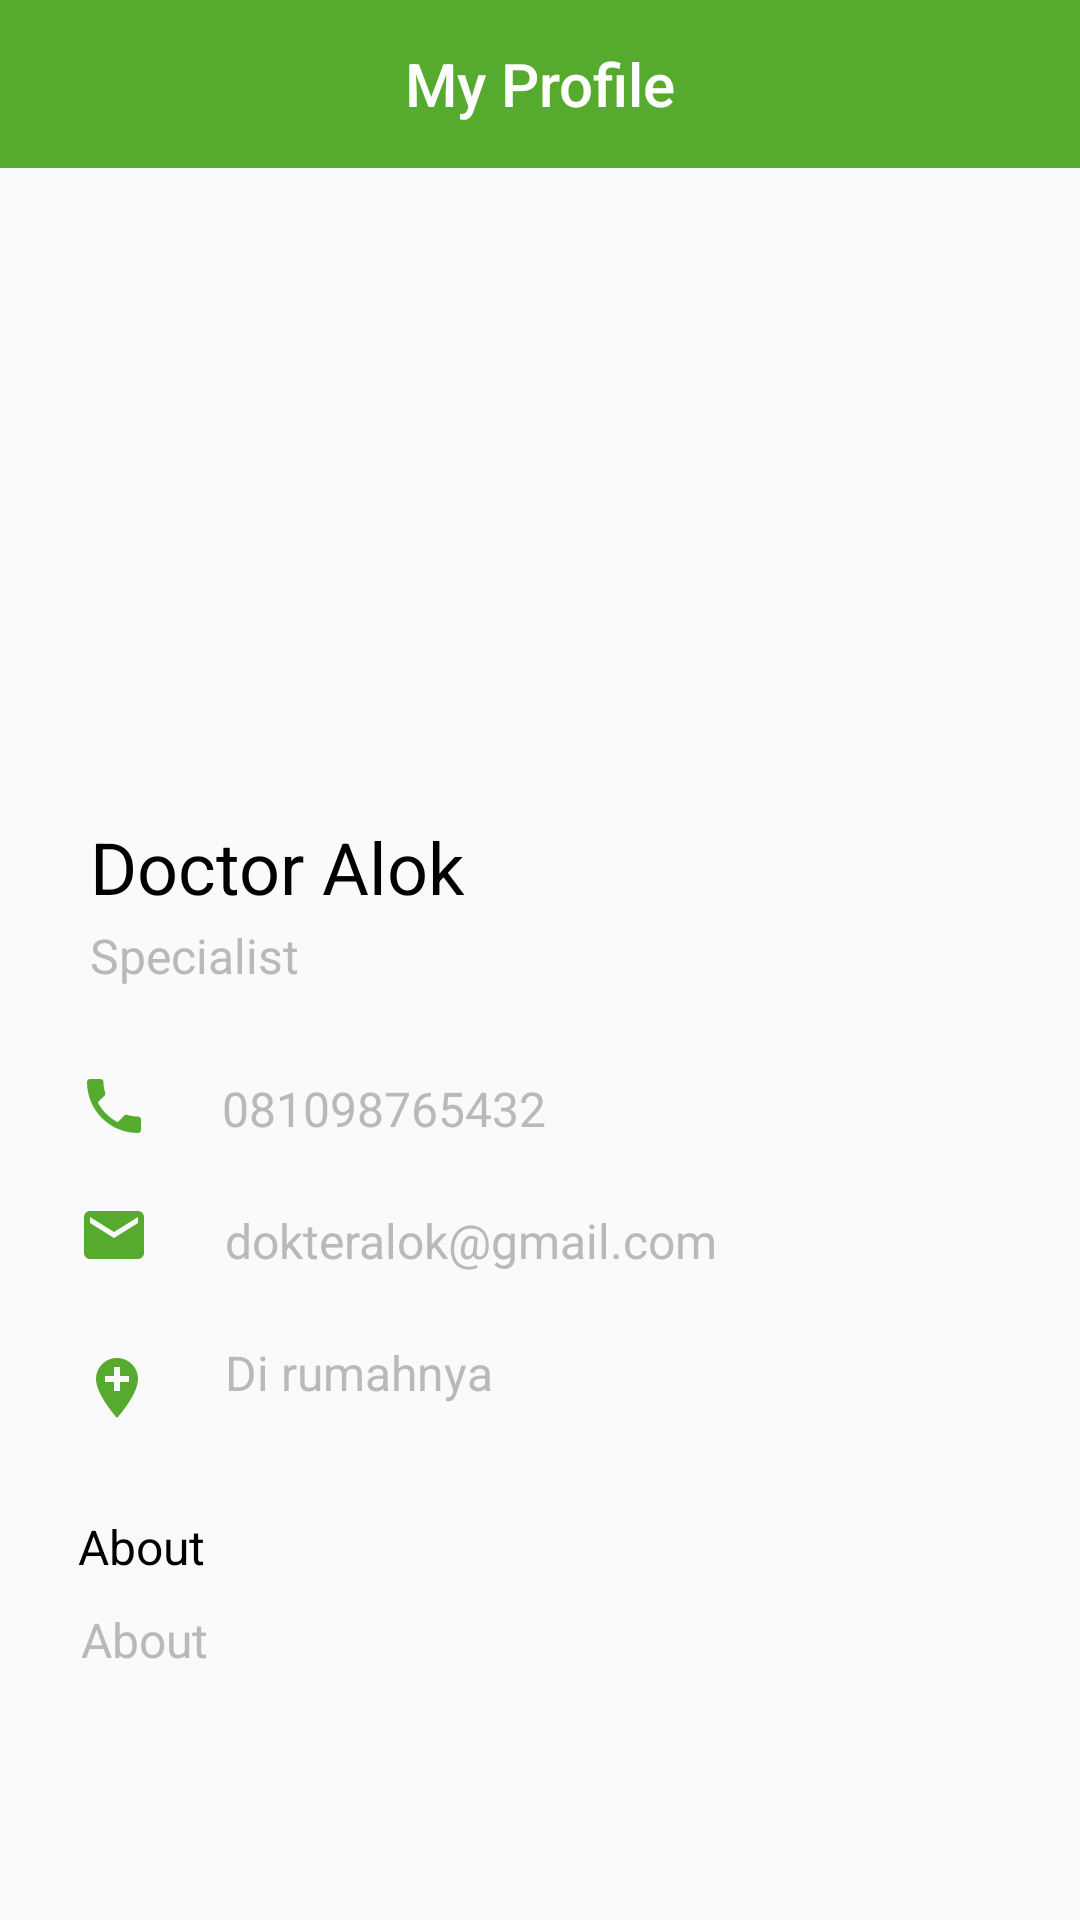

Screen size 1080×1920. Icon name, then its center in pixels as (x=x, y=y):
add location: (x=117, y=1388)
call: (x=114, y=1106)
email: (x=114, y=1235)
